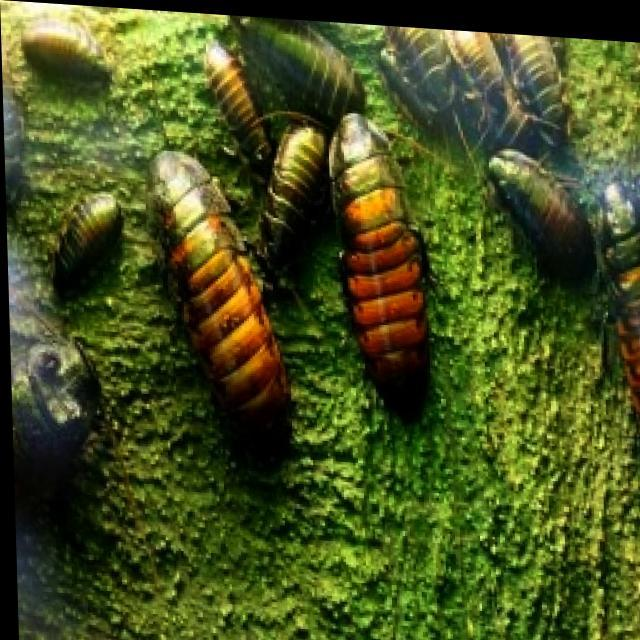cockroach: (137, 135, 336, 478), (304, 94, 473, 422), (410, 8, 562, 175), (488, 139, 611, 309), (241, 101, 342, 275), (489, 7, 600, 150), (174, 30, 288, 167), (375, 0, 459, 141), (48, 154, 129, 299), (0, 17, 150, 92)
